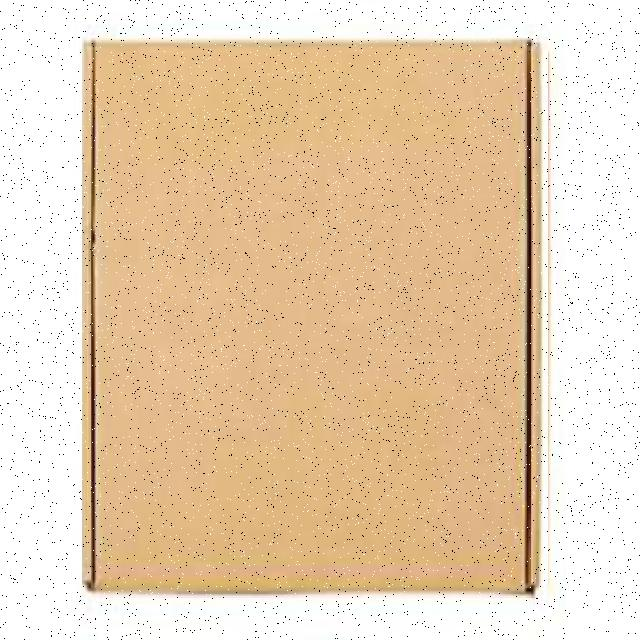normal: (81, 37, 548, 600)
